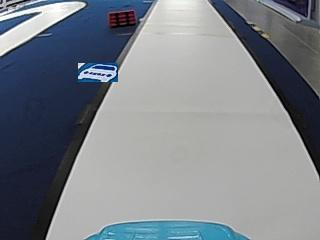bomb: (108, 8, 136, 25)
